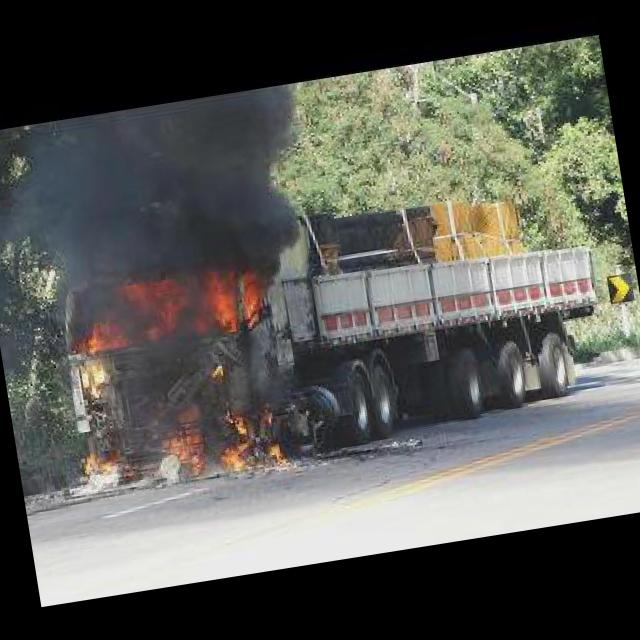Fire: (64, 233, 270, 366), (60, 260, 265, 360), (208, 400, 294, 490), (153, 408, 212, 489), (148, 402, 206, 478), (74, 434, 142, 494), (70, 444, 125, 478), (217, 441, 250, 473), (224, 411, 248, 438), (266, 442, 288, 469)
Smoke: (0, 75, 324, 314)
